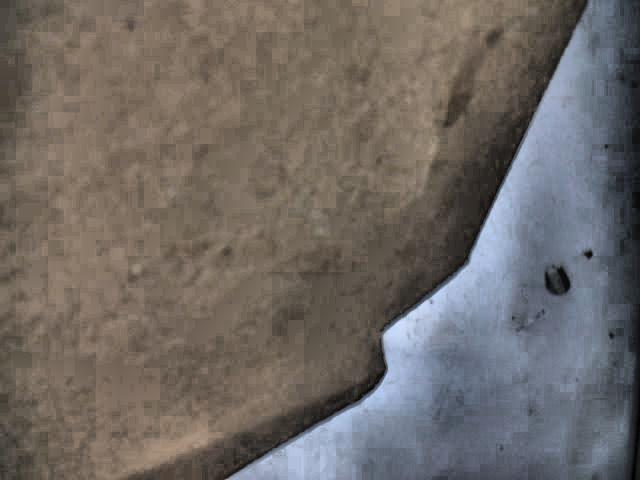Paper: (3, 1, 588, 477)
